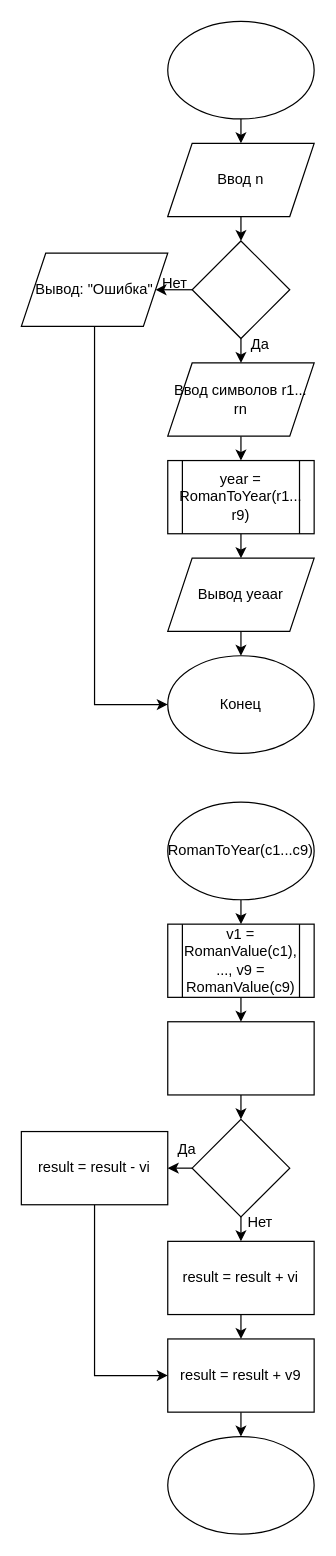
This 336x1556 diagram has some shape labels left out. The shapes that lost their labels are listed below. From the top down, each one's box as (x1, y1, x2, y2) in pixels, then its label:
(167, 20, 314, 119): Начало
(191, 240, 290, 339): 1<= n <= 9?
(167, 1021, 314, 1095): result = 0
(191, 1118, 290, 1217): vi < v(i+1)
(167, 1435, 314, 1534): Возврат result
